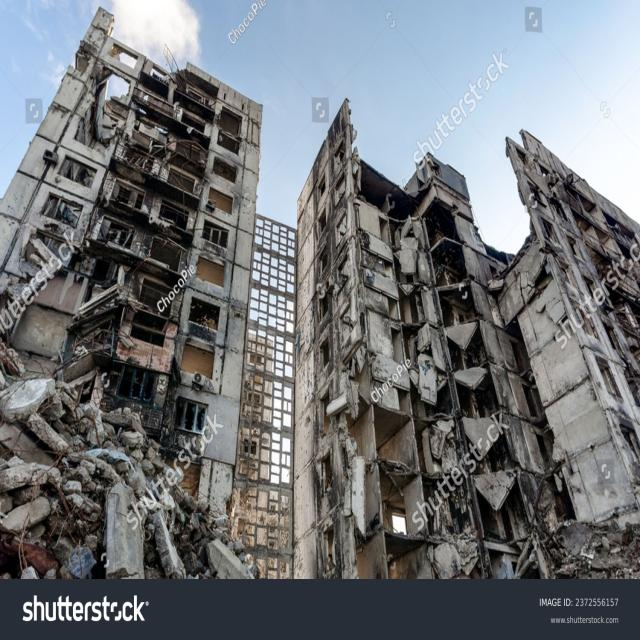Destroyed_building: (2, 2, 640, 575)
